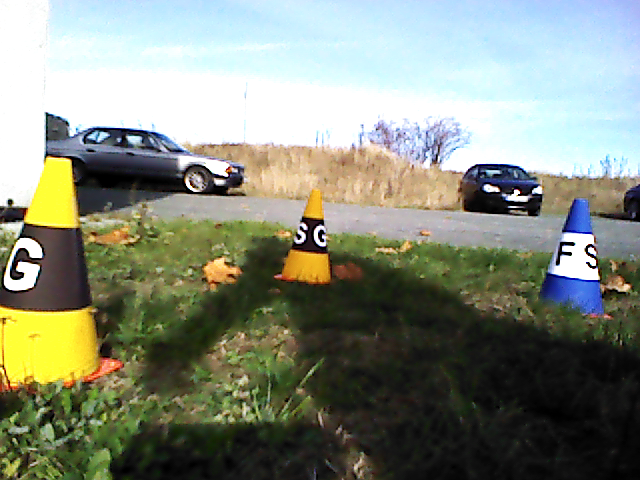bluecone: (542, 198, 602, 313)
yellowcone: (1, 157, 101, 382), (286, 190, 328, 281)
